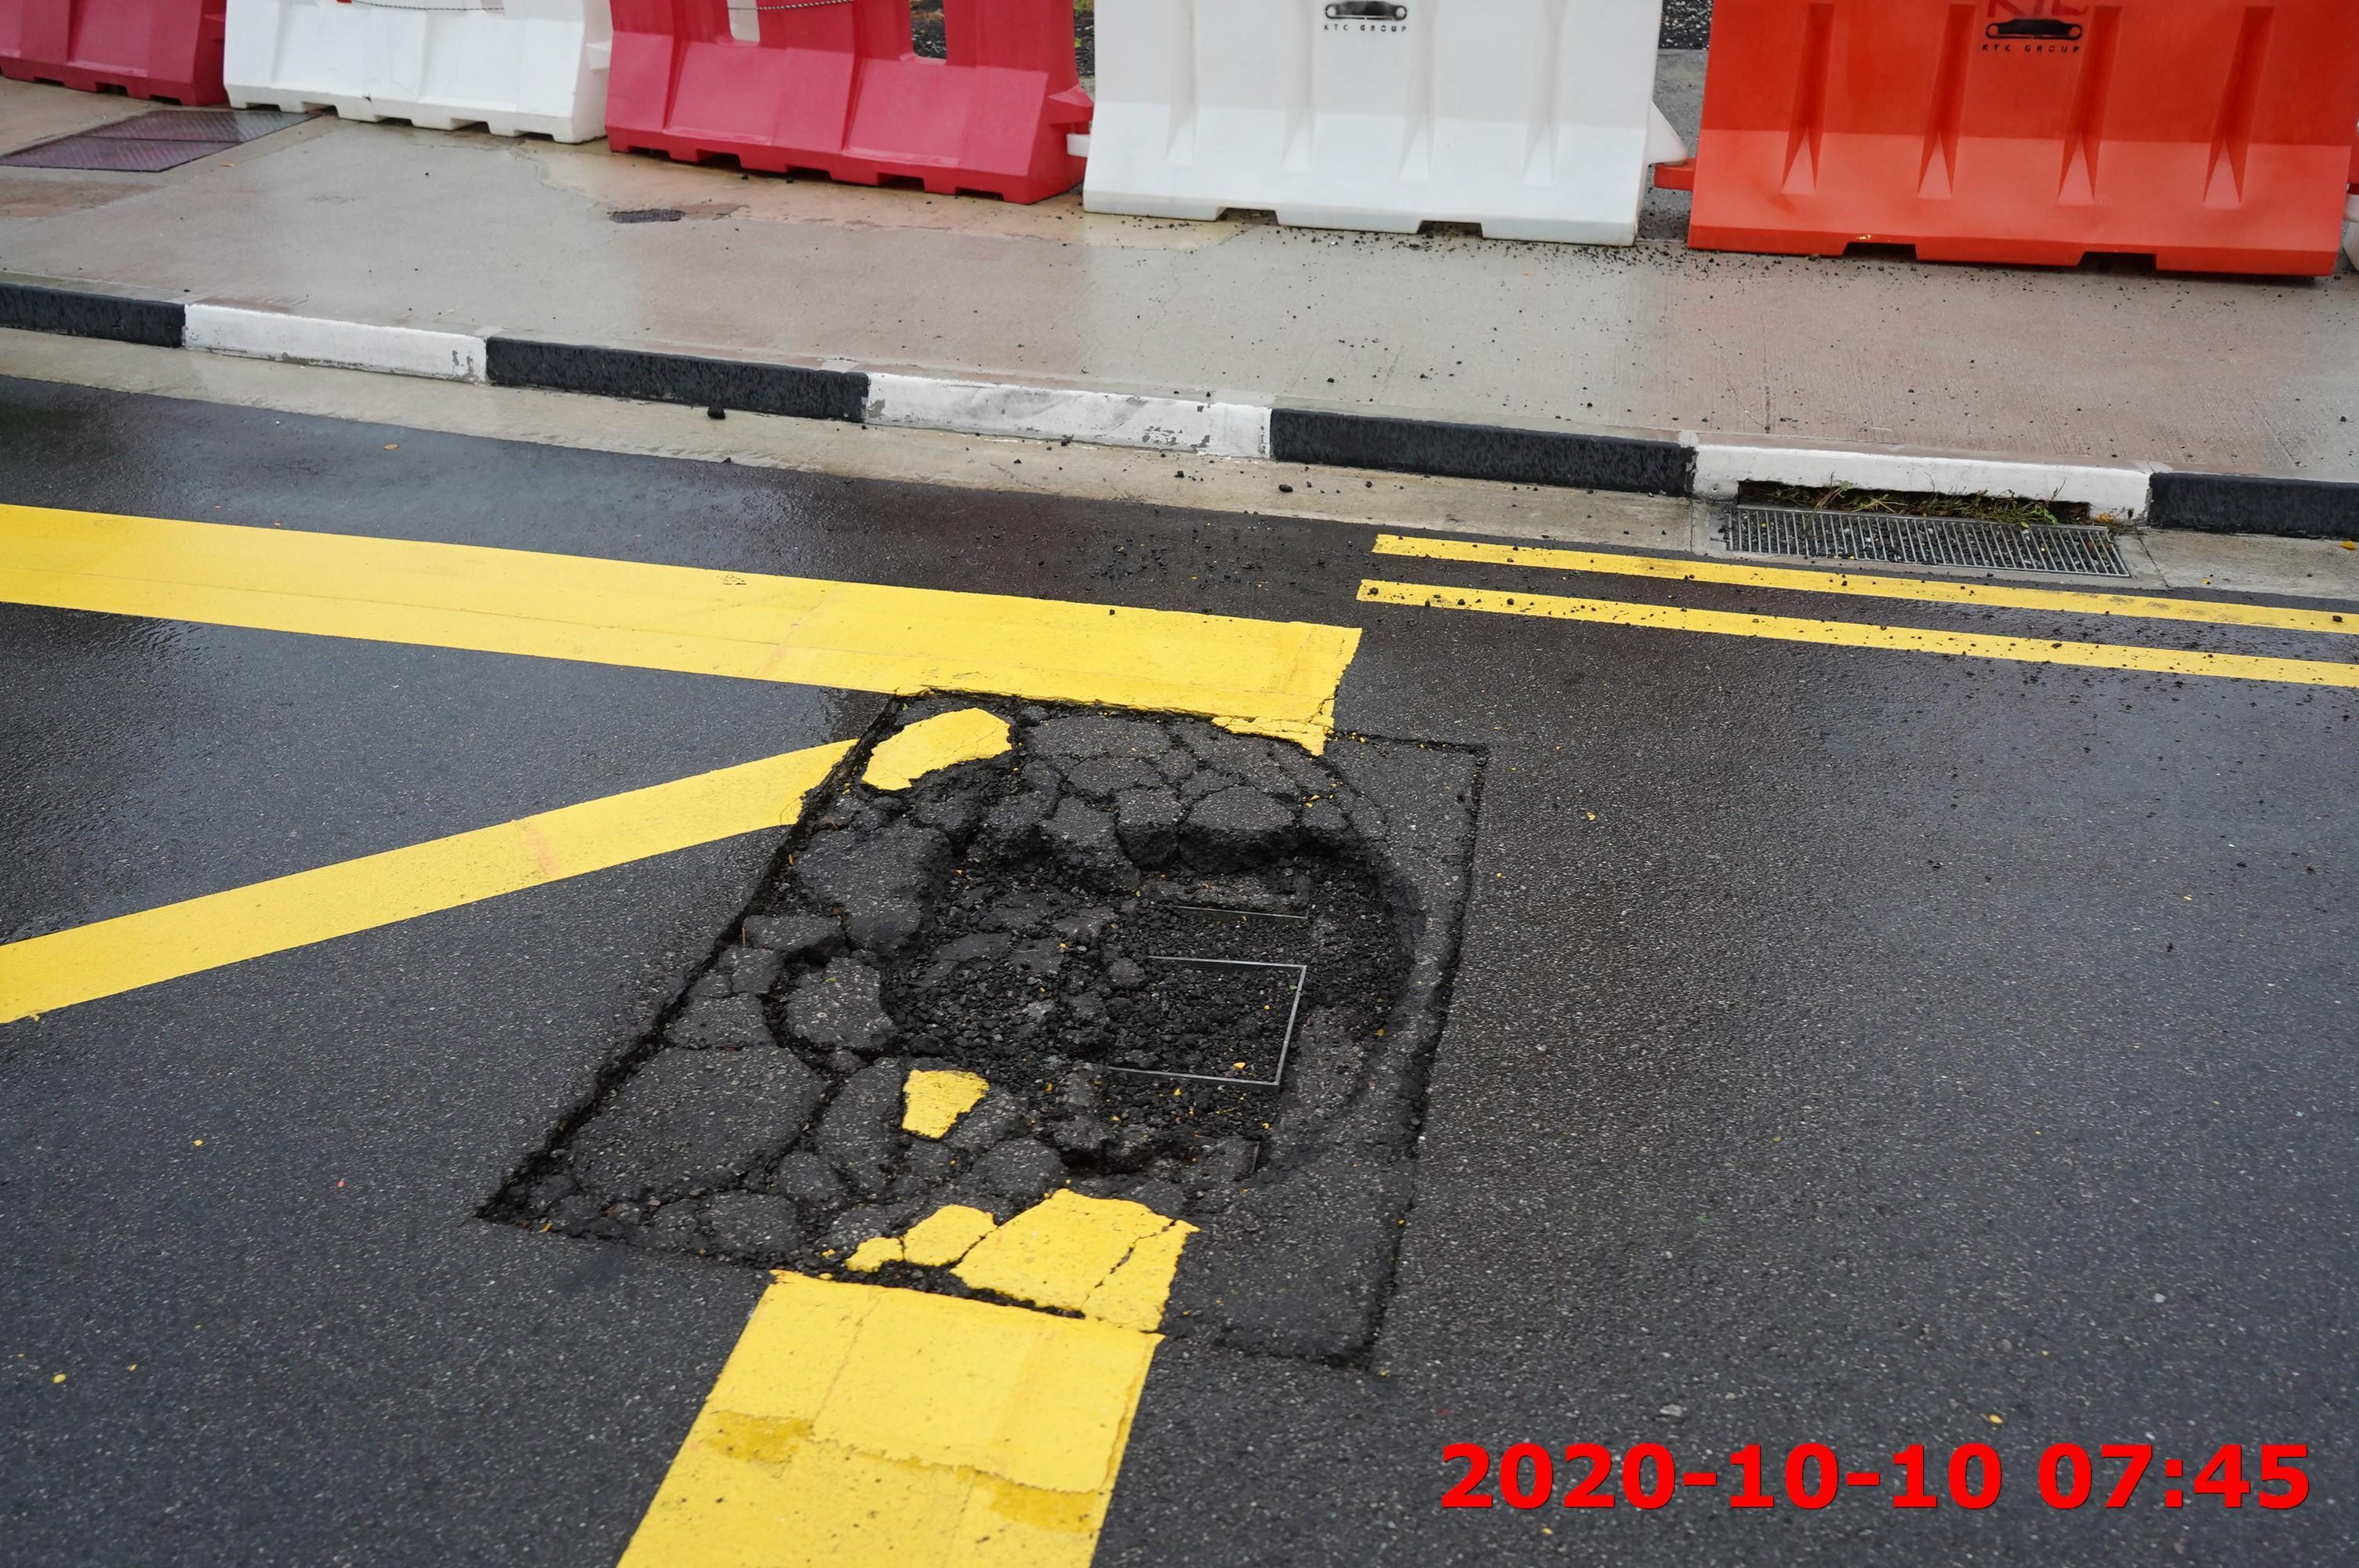pothole with crack: (798, 726, 1454, 1172)
